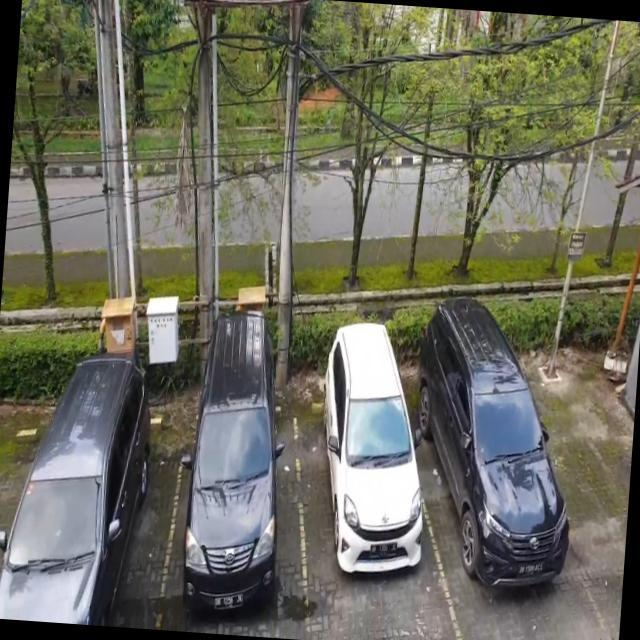occupied: (424, 345, 583, 620), (164, 361, 313, 638), (0, 406, 179, 629), (295, 374, 439, 610)
